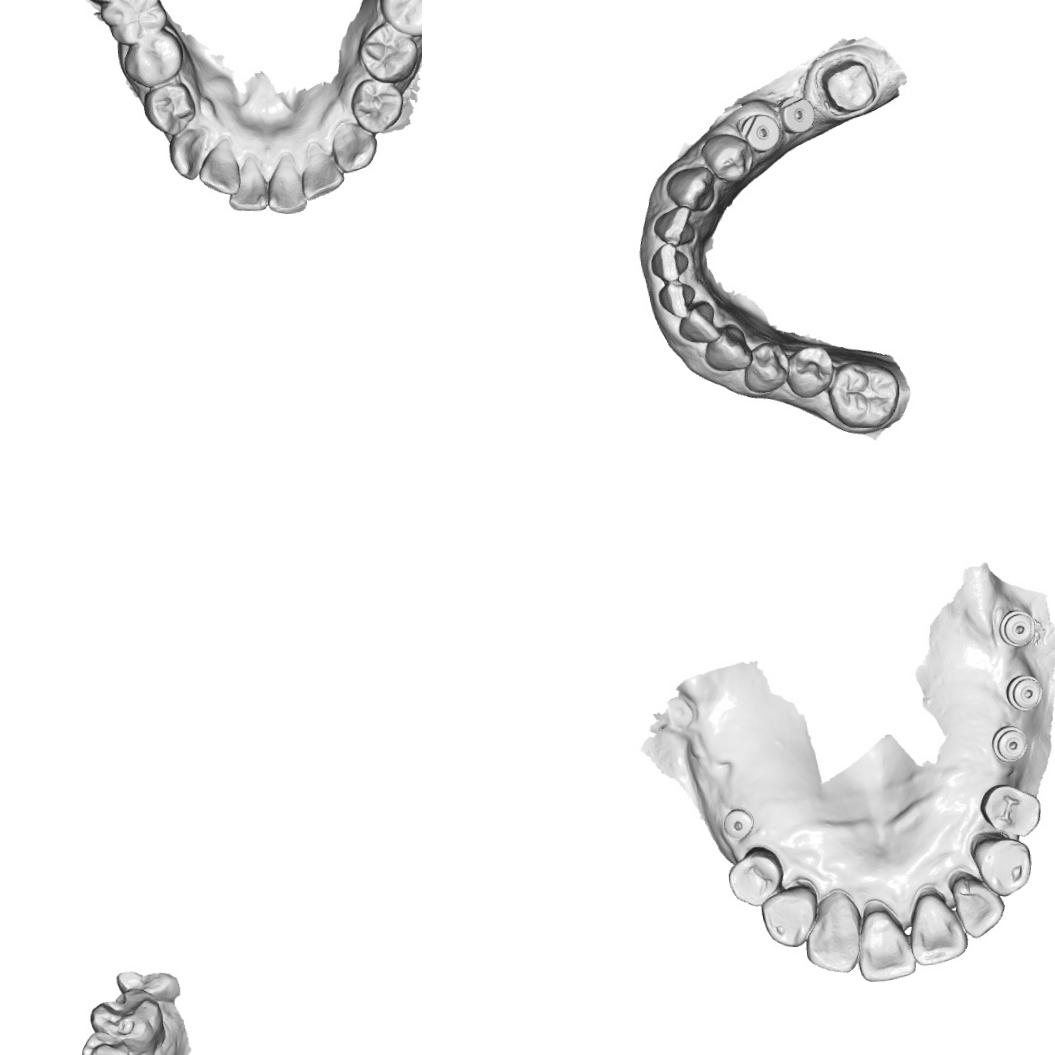canine: (968, 830, 1033, 900), (758, 883, 820, 948), (702, 321, 754, 372), (663, 164, 717, 213), (330, 118, 378, 173), (167, 126, 210, 181)
crown: (813, 50, 883, 118)
implant: (738, 110, 782, 153), (776, 92, 817, 136), (1002, 672, 1045, 713), (996, 607, 1038, 648), (989, 723, 1029, 764), (720, 805, 755, 841)
incisor: (802, 888, 865, 976), (854, 898, 916, 983), (906, 888, 968, 966), (950, 870, 1006, 940), (299, 138, 345, 202), (225, 152, 271, 212), (195, 140, 242, 197), (265, 150, 306, 215), (676, 297, 722, 344), (650, 202, 698, 246), (647, 241, 691, 284), (656, 279, 696, 319)
molar: (86, 984, 167, 1055), (825, 357, 902, 430), (98, 0, 168, 44), (375, 0, 422, 38)
premolar: (356, 21, 419, 83), (120, 27, 186, 86), (725, 842, 784, 908), (978, 780, 1042, 838), (348, 76, 406, 136), (138, 81, 198, 135), (697, 130, 754, 184), (740, 338, 793, 395), (784, 342, 832, 401), (78, 1028, 130, 1055)
